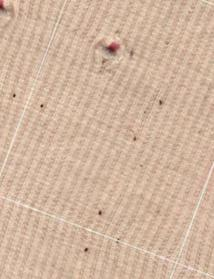hole: (94, 34, 131, 64)
stain: (149, 94, 169, 113), (159, 34, 175, 57), (77, 242, 94, 259), (127, 132, 141, 149), (34, 100, 46, 117), (95, 207, 107, 223), (8, 88, 20, 101)
